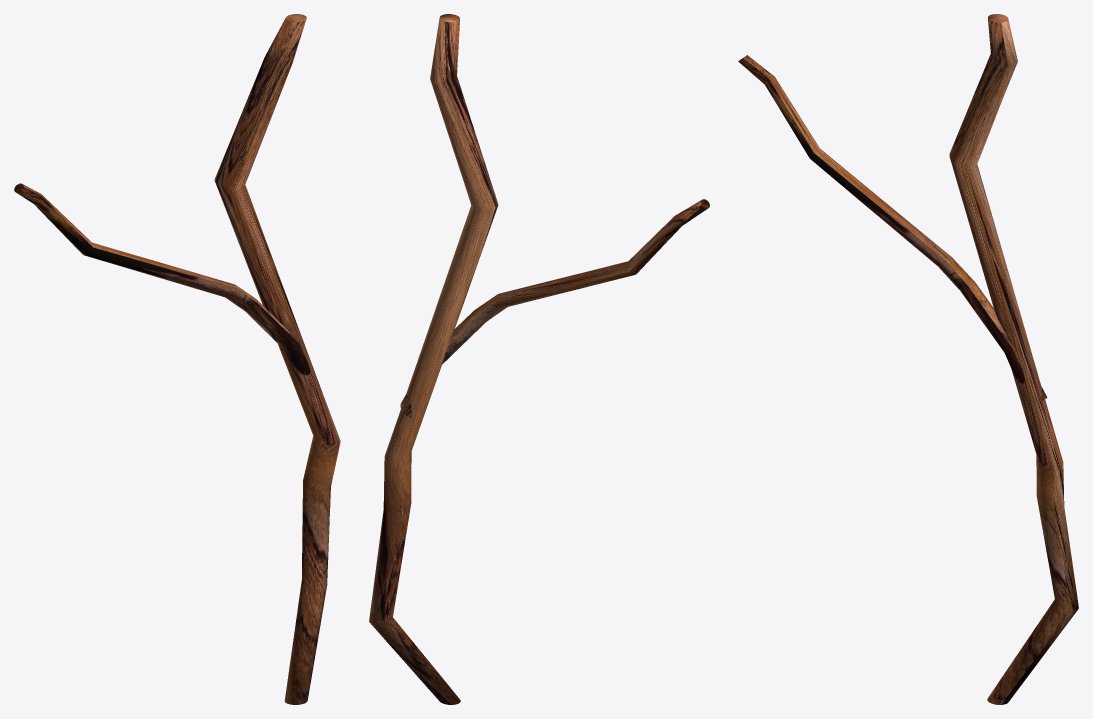
The model's file is roots_c1.glb.
The picture shows the model from 3 angles, left to right: view 1: azimuth 30°, elevation 25°; view 2: azimuth 150°, elevation 25°; view 3: azimuth 330°, elevation 25°; orthographic projection.
Visible parts, largest first — view 1: Cylinder.015; view 2: Cylinder.015; view 3: Cylinder.015.
Part boxes in pixels (x1=…): Cylinder.015: x1=14, y1=14, x2=340, y2=704; Cylinder.015: x1=369, y1=14, x2=709, y2=704; Cylinder.015: x1=738, y1=14, x2=1078, y2=704.
Size of the model in its own units: 0.4976 by 1 by 0.0949.
Materials: 1 (1 with a texture image).
